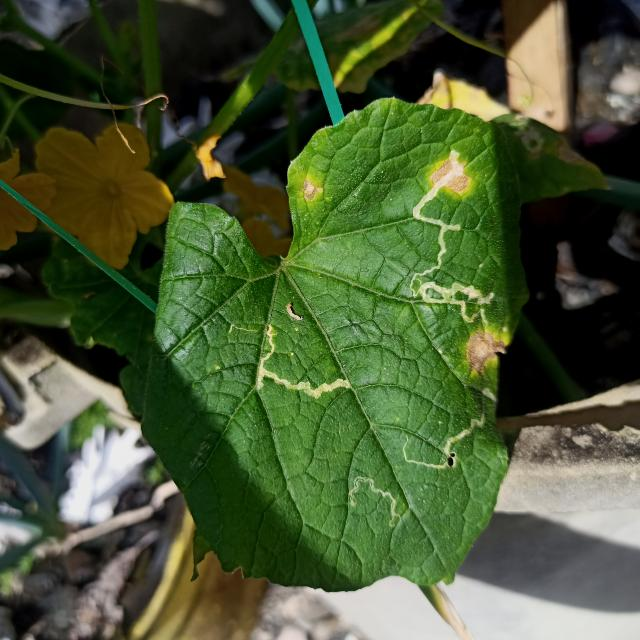disease_cucumber: (463, 328, 504, 370), (428, 158, 469, 195), (300, 178, 322, 202)
